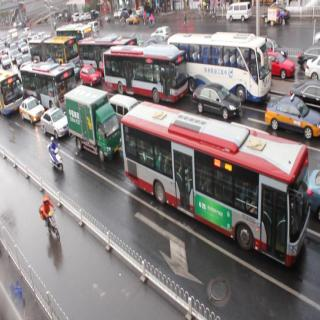BigCar: (129, 114, 294, 266), (170, 34, 276, 98), (98, 44, 189, 104), (65, 83, 118, 161), (20, 62, 71, 110)
Car: (270, 94, 320, 148), (187, 76, 244, 118), (36, 97, 74, 143), (17, 89, 43, 134)
